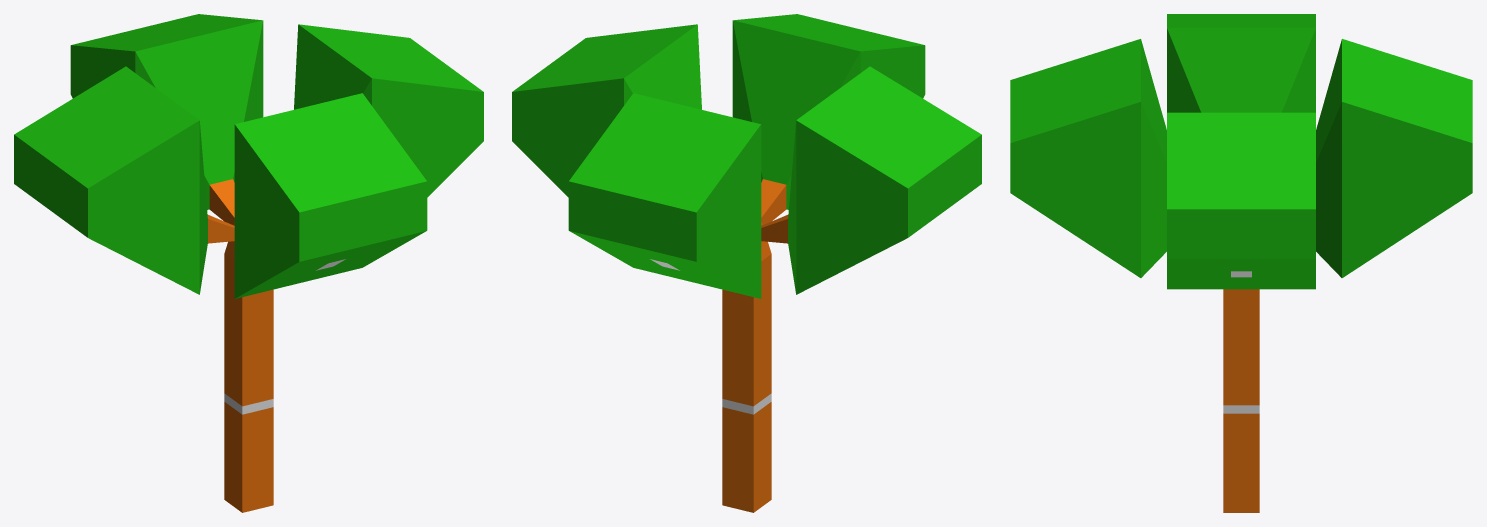
File: MechanicalTrees.fbx
The picture shows the model from 3 angles, left to right: view 1: azimuth 30°, elevation 25°; view 2: azimuth 150°, elevation 25°; view 3: azimuth 270°, elevation 25°; orthographic projection.
Visible parts, largest first — view 1: MechanicalTree, DestroyedTree; view 2: MechanicalTree, DestroyedTree; view 3: MechanicalTree, DestroyedTree.
Part boxes in pixels (bbox=[...]): MechanicalTree: bbox=[14, 14, 483, 406]; DestroyedTree: bbox=[224, 393, 273, 512]; MechanicalTree: bbox=[512, 14, 981, 406]; DestroyedTree: bbox=[722, 393, 771, 512]; MechanicalTree: bbox=[1010, 14, 1472, 405]; DestroyedTree: bbox=[1223, 405, 1259, 512].
Bounding box in the file's own units: 506 × 525 × 506.
